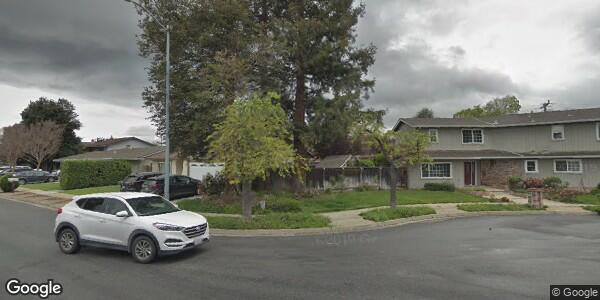Steel_Pole: (121, 1, 173, 199)
